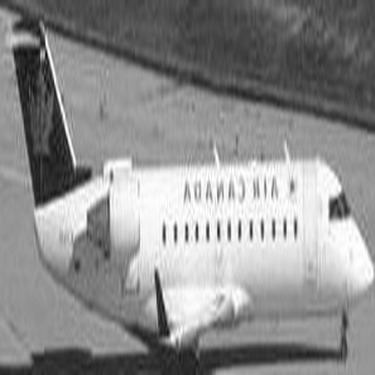airplane: (1, 10, 372, 374)
